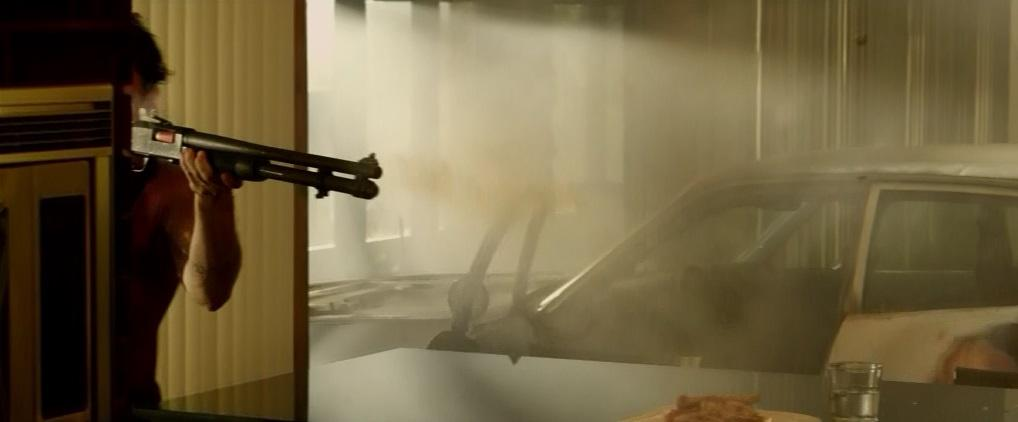gun: (154, 101, 357, 198)
